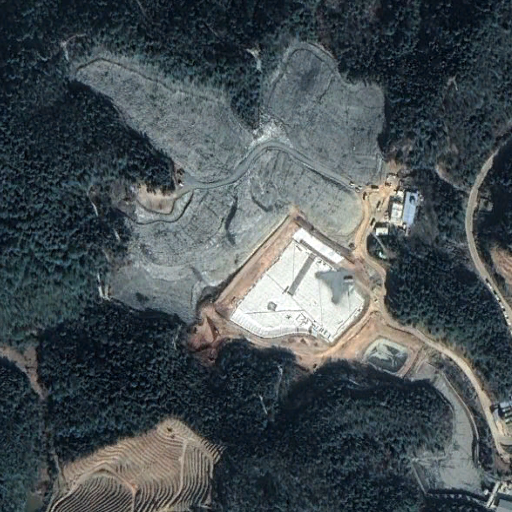lf: (72, 42, 382, 330)
